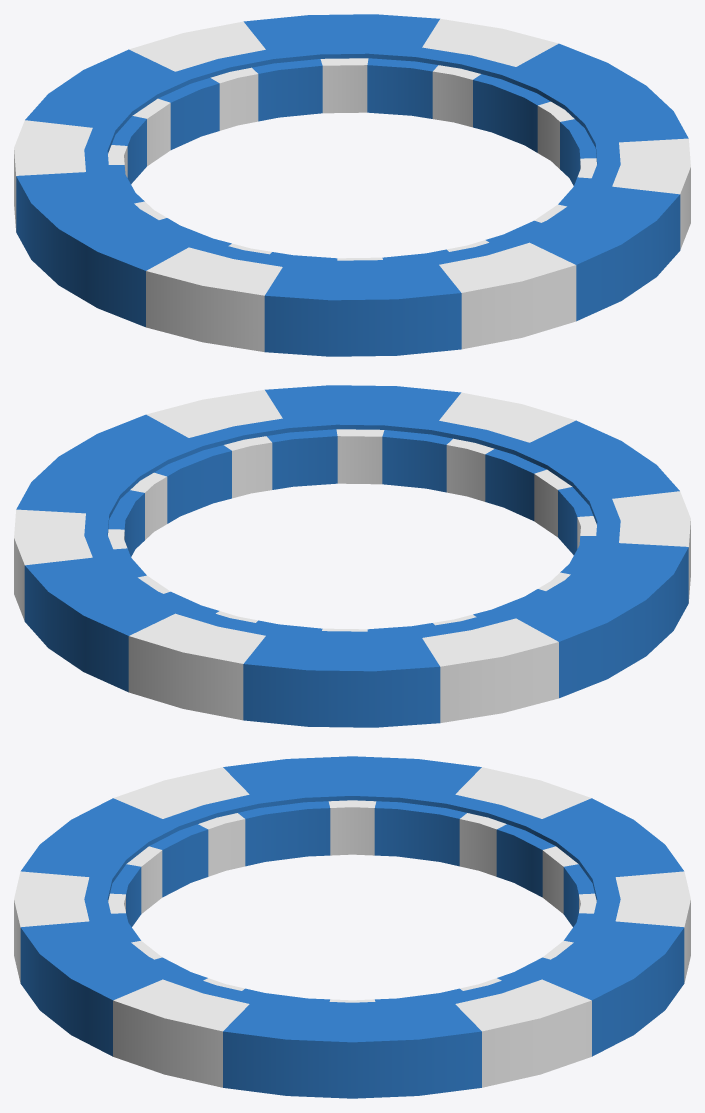
File: poker_chip_ring (2).fbx
The picture shows the model from 3 angles, top to bottom: view 1: azimuth 30°, elevation 25°; view 2: azimuth 150°, elevation 25°; view 3: azimuth 270°, elevation 25°; orthographic projection.
Visible parts, largest first — view 1: Cylinder; view 2: Cylinder; view 3: Cylinder.
Boxes of the visible parts, left/top/right/bottom form: Cylinder: left=14, top=14, right=690, bottom=356; Cylinder: left=14, top=385, right=690, bottom=727; Cylinder: left=14, top=756, right=690, bottom=1098.
Size of the model in its own units: 200 by 18.37 by 200.
